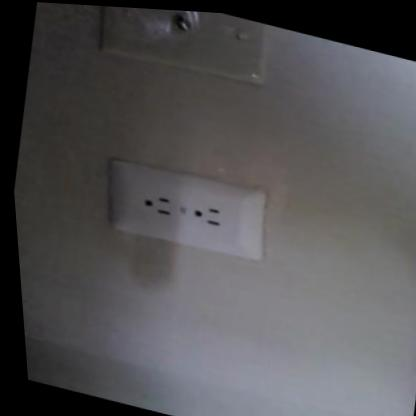OUTLET: (102, 152, 274, 265)
